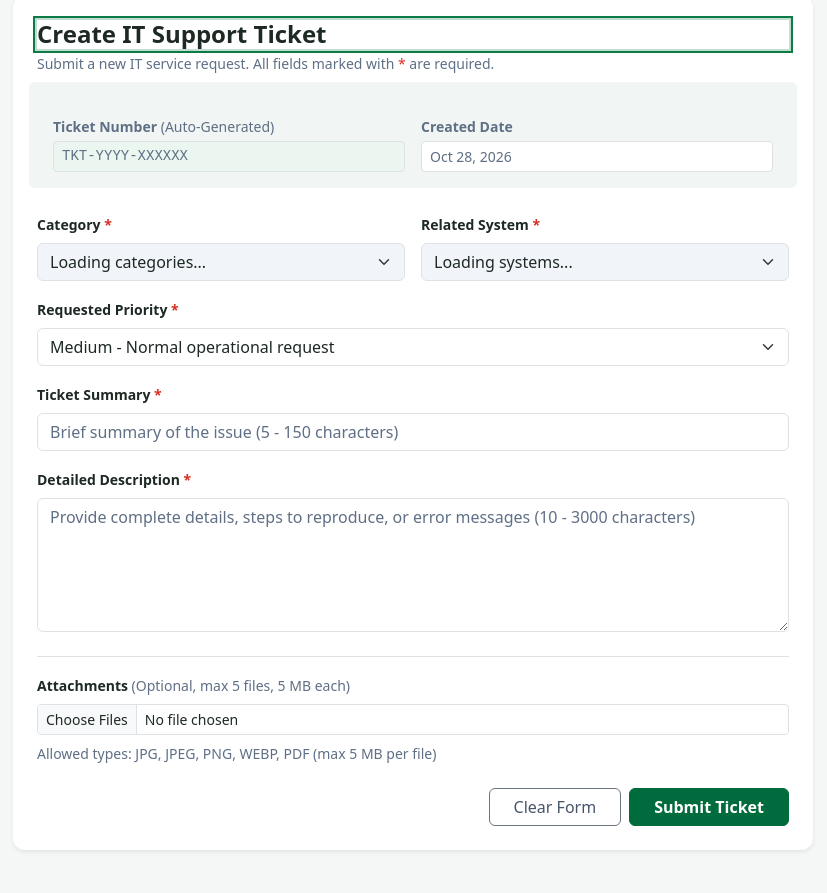
Test: Lab 2 Create Ticket Form Validation & Submission UI (UI-02, UI-08, UI-STYLE-01) › validates field lengths and retains form data on API failure (UI-02, AC-11, AC-23)
Step 1. Type "Tiny" into the field labelled "Ticket Summary *" → (413, 432), box [37,413,789,451]
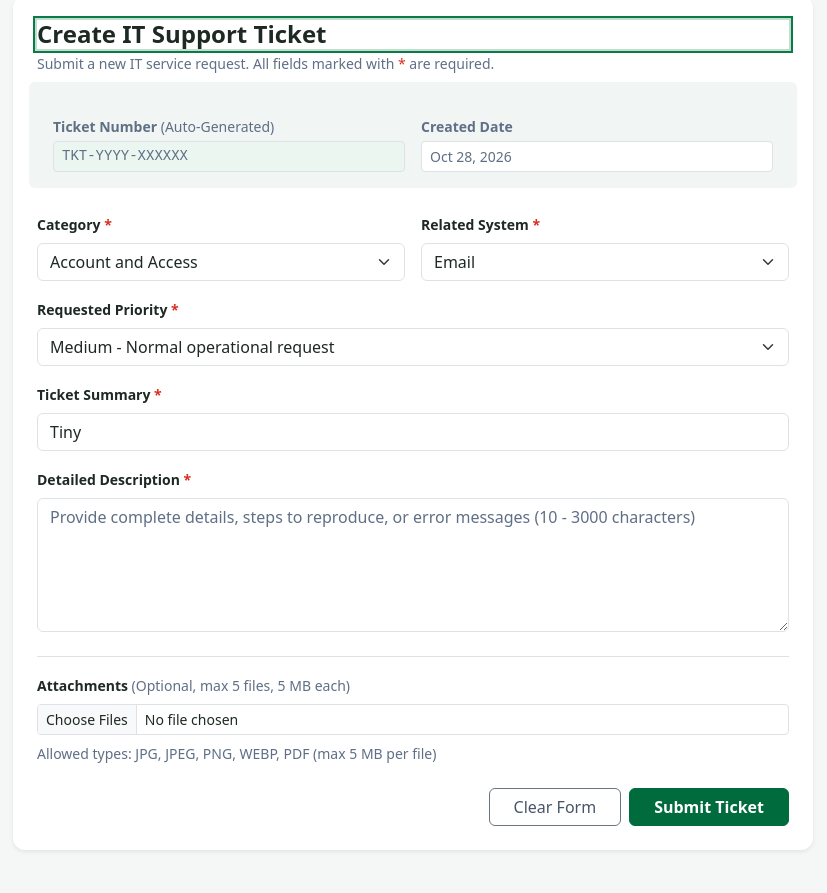
Step 2. Replace the text in the text box labelled "Detailed Description *" with "Too short" → (413, 565), box [37,498,789,632]
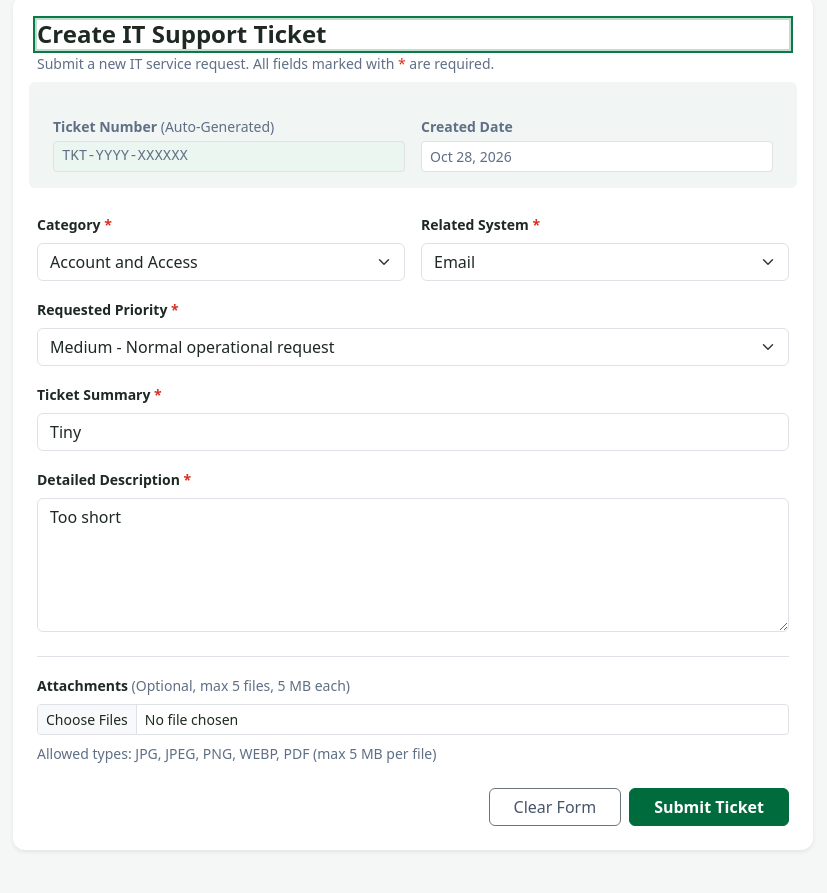
Step 3. Click the button "Submit Ticket" → (709, 807), box [629,788,789,826]
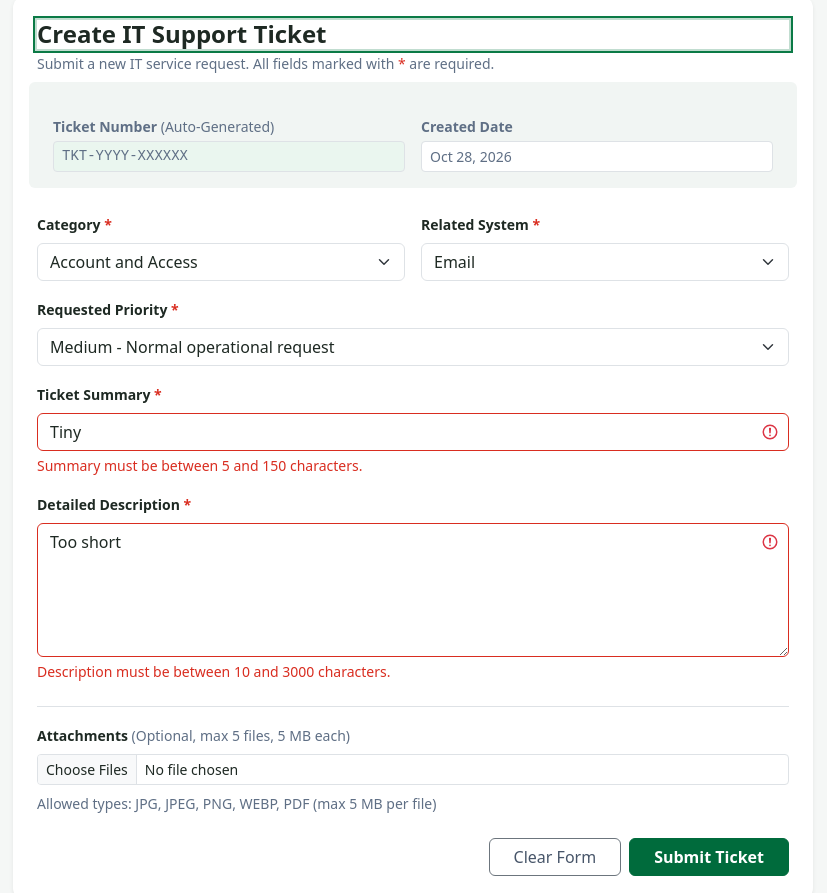
Now the text "Summary must be between 5 and 150 characters." is shown, box [37,456,362,475]
Now the text "Description must be between 10 and 3000 characters." is shown, box [37,662,390,681]
